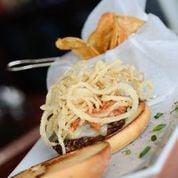soup: (38, 49, 155, 159)
